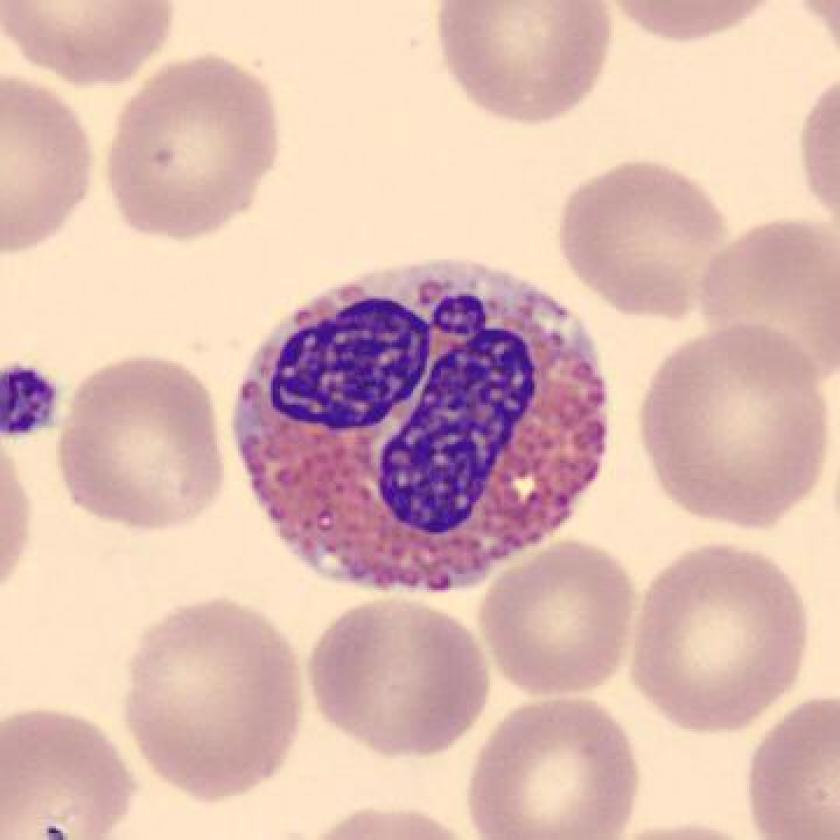eosinophil: (213, 251, 622, 605)
